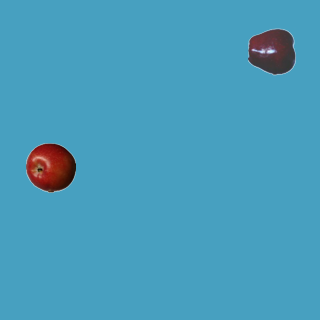Apple Braeburn: (25, 142, 75, 192)
Apple Red Delicious: (247, 26, 297, 76)
